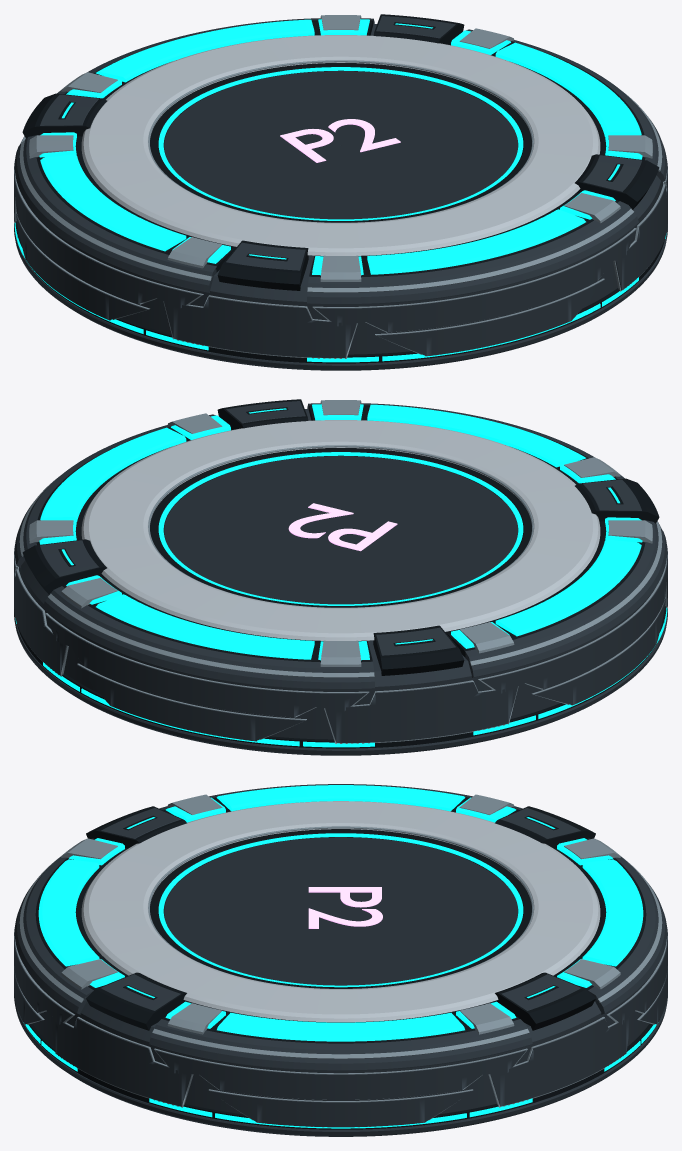
Rendered from Striker.fbx.
3 views of the same model, one above another, from view 1: azimuth 30°, elevation 25°; view 2: azimuth 150°, elevation 25°; view 3: azimuth 270°, elevation 25° (orthographic).
Parts seen in each view (by area): view 1: SM_Puck_Striker_P2_HighDetail; view 2: SM_Puck_Striker_P2_HighDetail; view 3: SM_Puck_Striker_P2_HighDetail.
Boxes of the visible parts, x1=… form: SM_Puck_Striker_P2_HighDetail: x1=14, y1=14, x2=667, y2=370; SM_Puck_Striker_P2_HighDetail: x1=14, y1=399, x2=667, y2=755; SM_Puck_Striker_P2_HighDetail: x1=14, y1=784, x2=667, y2=1136.
Size of the model in its own units: 82.7 by 82.7 by 13.4.
